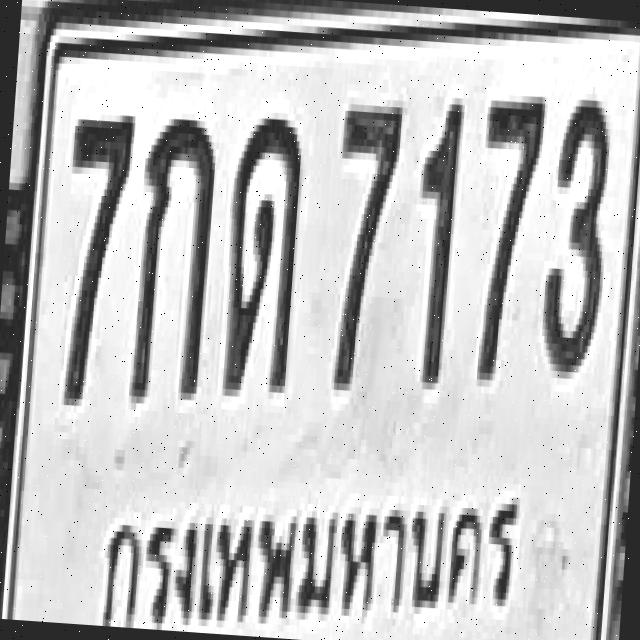1: (408, 92, 463, 387)
10GorGai: (128, 110, 218, 400)
29DorDek: (220, 106, 306, 390)
3: (538, 88, 614, 376)
7: (54, 102, 134, 404), (323, 93, 403, 390), (468, 86, 546, 382)
Bangkok: (91, 445, 533, 640)
